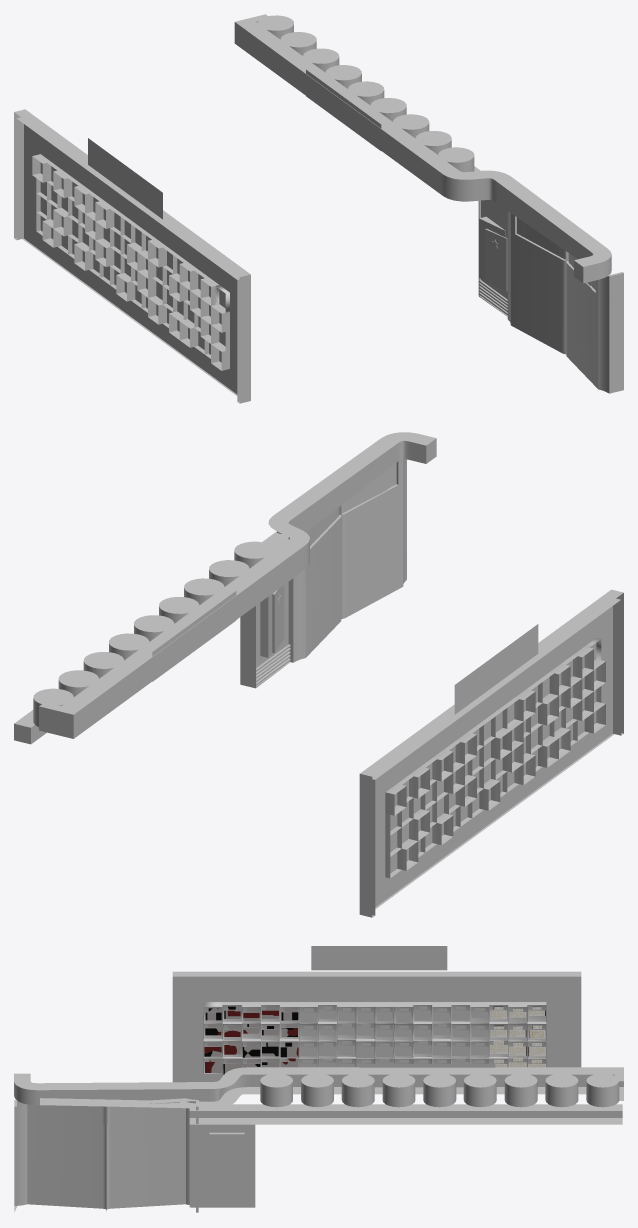
Rendered from 先进典型.fbx.
The picture shows the model from 3 angles, top to bottom: view 1: azimuth 30°, elevation 25°; view 2: azimuth 150°, elevation 25°; view 3: azimuth 270°, elevation 25°; orthographic projection. The views are drawn at different scales.
Parts seen in each view (by area): view 1: pasted__pasted__Box22262, pasted__shikuai, pasted__Line4246, pasted__Line4118, pasted__Line4245, pasted__pasted__pasted__pCylinder9, pasted__erdenggongpai, pasted__对象018, pasted__Box22264; view 2: pasted__Line4246, pasted__shikuai, pasted__pasted__Box22262, pasted__Line4118, pasted__Line4245, pasted__pasted__pasted__pCylinder9, pasted__对象018, pasted__erdenggongpai, pasted__Box22261; view 3: pasted__Line4118, pasted__Line4246, pasted__shikuai, pasted__pasted__Box22262, pasted__pasted__pasted__pCylinder9, pasted__Box22261, pasted__Line4245, pasted__对象018, XJDX_02, XJDX_03, pasted__erdenggongpai, XJDX_04 (+3 smaller).
Part boxes in pixels (bbox=[...]): pasted__pasted__Box22262: bbox=[234, 14, 611, 283]; pasted__shikuai: bbox=[32, 154, 229, 370]; pasted__Line4246: bbox=[22, 124, 237, 395]; pasted__Line4118: bbox=[507, 211, 623, 393]; pasted__Line4245: bbox=[14, 109, 250, 403]; pasted__pasted__pasted__pCylinder9: bbox=[258, 15, 474, 172]; pasted__erdenggongpai: bbox=[88, 138, 162, 219]; pasted__对象018: bbox=[478, 200, 507, 316]; pasted__Box22264: bbox=[485, 228, 507, 291]; pasted__Line4246: bbox=[375, 606, 614, 908]; pasted__shikuai: bbox=[385, 638, 605, 878]; pasted__pasted__Box22262: bbox=[39, 432, 436, 738]; pasted__Line4118: bbox=[277, 459, 406, 662]; pasted__Line4245: bbox=[359, 589, 623, 917]; pasted__pasted__pasted__pCylinder9: bbox=[33, 541, 274, 727]; pasted__对象018: bbox=[240, 582, 290, 688]; pasted__erdenggongpai: bbox=[454, 624, 538, 714]; pasted__Box22261: bbox=[14, 531, 284, 744]; pasted__Line4118: bbox=[14, 1098, 198, 1212]; pasted__Line4246: bbox=[177, 980, 576, 1082]; pasted__shikuai: bbox=[203, 1002, 546, 1075]; pasted__pasted__Box22262: bbox=[14, 1067, 623, 1108]; pasted__pasted__pasted__pCylinder9: bbox=[260, 1073, 619, 1107]; pasted__Box22261: bbox=[189, 1104, 622, 1124]; pasted__Line4245: bbox=[172, 971, 581, 1082]; pasted__对象018: bbox=[189, 1124, 255, 1207]; XJDX_02: bbox=[204, 1006, 298, 1074]; XJDX_03: bbox=[300, 1006, 393, 1067]; pasted__erdenggongpai: bbox=[311, 946, 447, 970]; XJDX_04: bbox=[395, 1006, 488, 1063].
Bounding box in the file's own units: 1709 × 844 × 3331.
